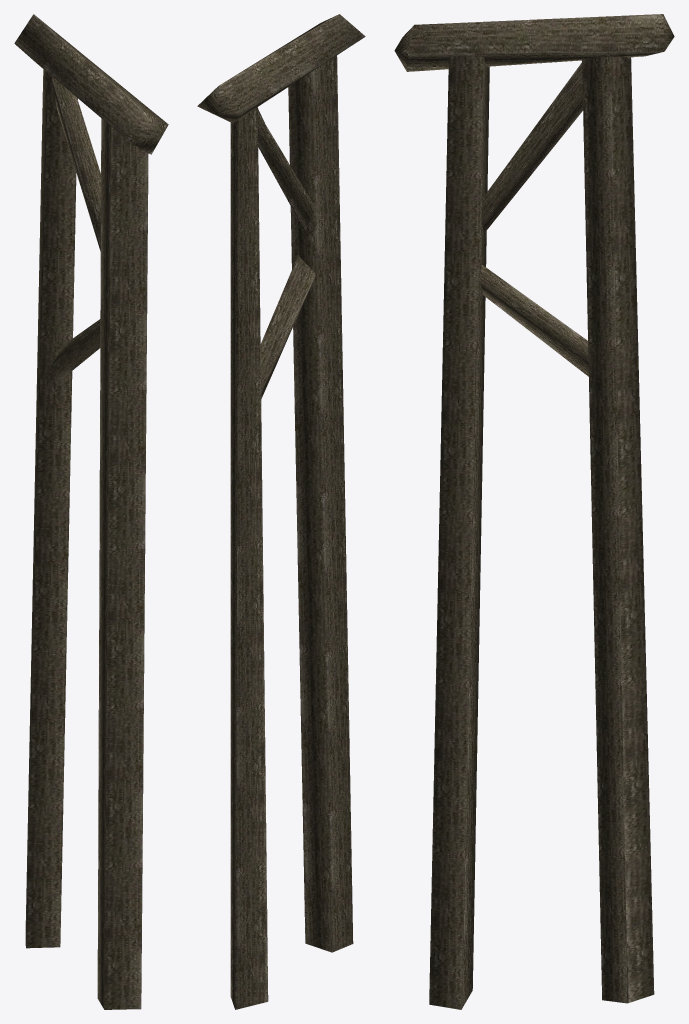
Rendered from MIN_LOB_BRIDGESTAND_02.glb.
3 views of the same model, side by side, from view 1: azimuth 30°, elevation 25°; view 2: azimuth 150°, elevation 25°; view 3: azimuth 270°, elevation 25° (orthographic). The views are drawn at different scales.
Parts seen in each view (by area): view 1: Mesh; view 2: Mesh; view 3: Mesh.
Boxes of the visible parts, left/top/right/bottom form: Mesh: left=14, top=14, right=168, bottom=1009; Mesh: left=197, top=14, right=365, bottom=1009; Mesh: left=394, top=14, right=674, bottom=1009.
Size of the model in its own units: 0.8778 by 14.9 by 3.81.
Materials: 1 (1 with a texture image).
